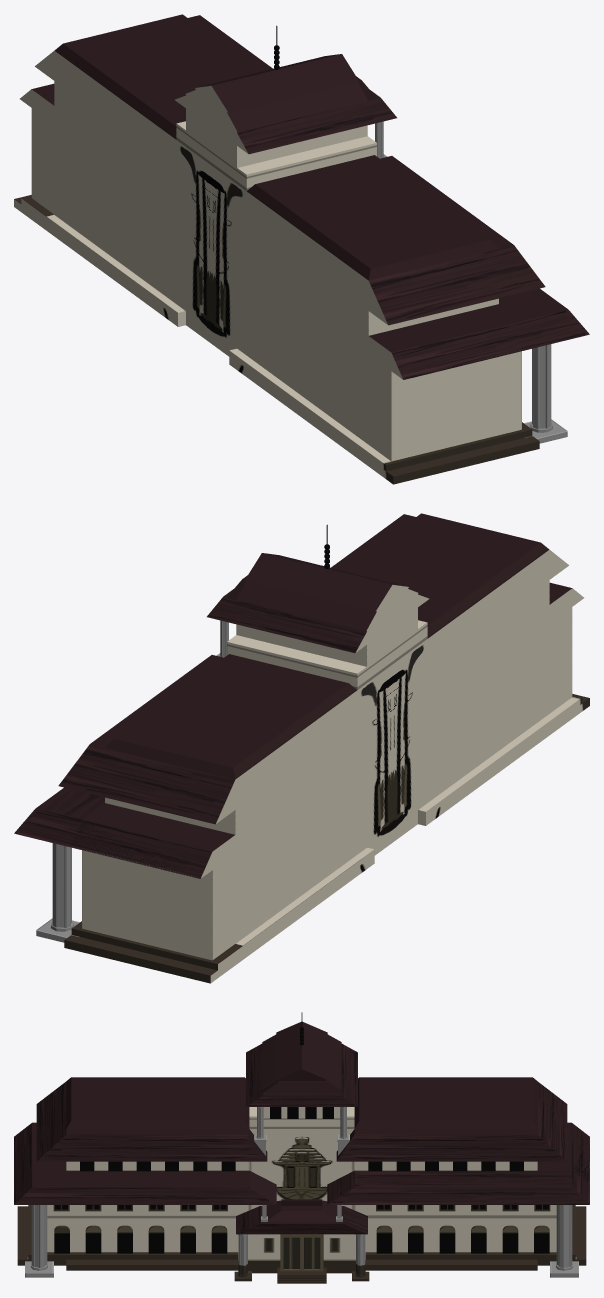
Rendered from gedung sate 1.fbx.
3 views of the same model, one above another, from view 1: azimuth 30°, elevation 25°; view 2: azimuth 150°, elevation 25°; view 3: azimuth 270°, elevation 25° (orthographic). The views are drawn at different scales.
Visible parts, largest first — view 1: Cube; view 2: Cube; view 3: Cube.
Boxes of the visible parts, x1,y1,x2,y2 form: Cube: (14, 14, 589, 484); Cube: (14, 513, 589, 983); Cube: (14, 1012, 589, 1283).
Bounding box in the file's own units: 2849 × 4237 × 9738.
